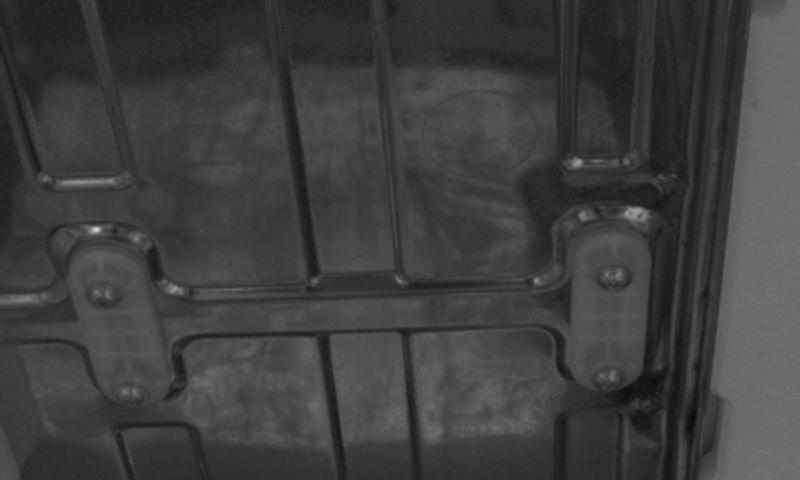vida-ok: (597, 256, 640, 301), (84, 271, 124, 316), (109, 375, 152, 415), (590, 359, 630, 398)
